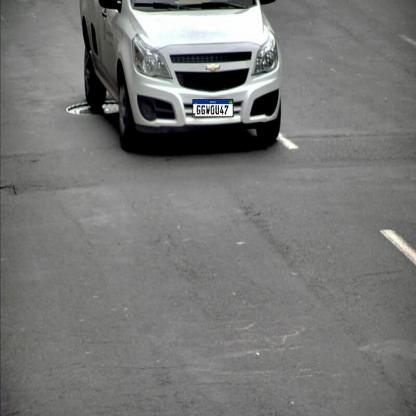PlacaM: (192, 99, 233, 117)
